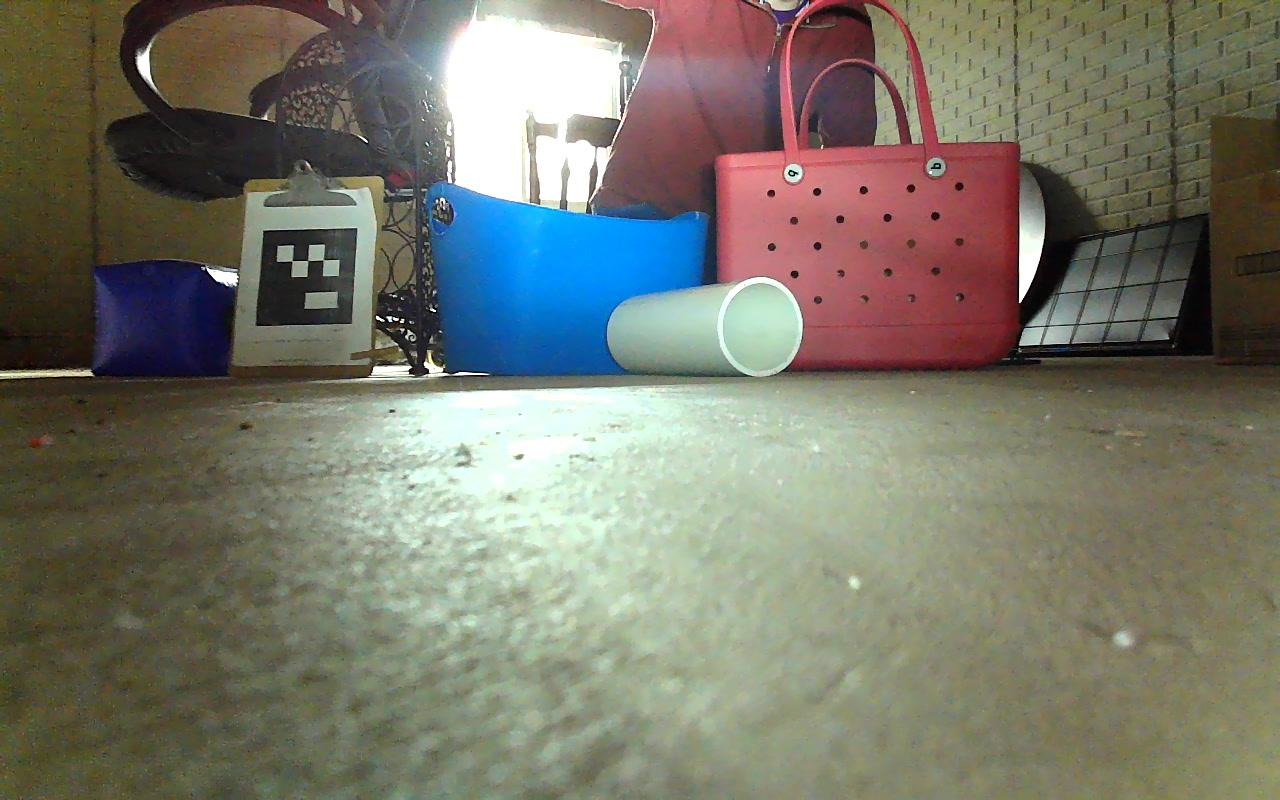coral: (607, 276, 801, 376)
